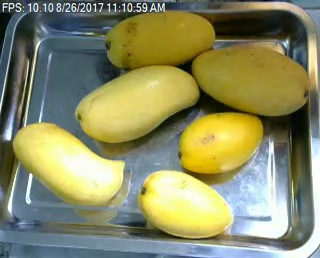Mango: (12, 119, 128, 210), (73, 66, 206, 142), (191, 44, 312, 120), (99, 12, 221, 72), (139, 166, 237, 239), (174, 111, 265, 177)
